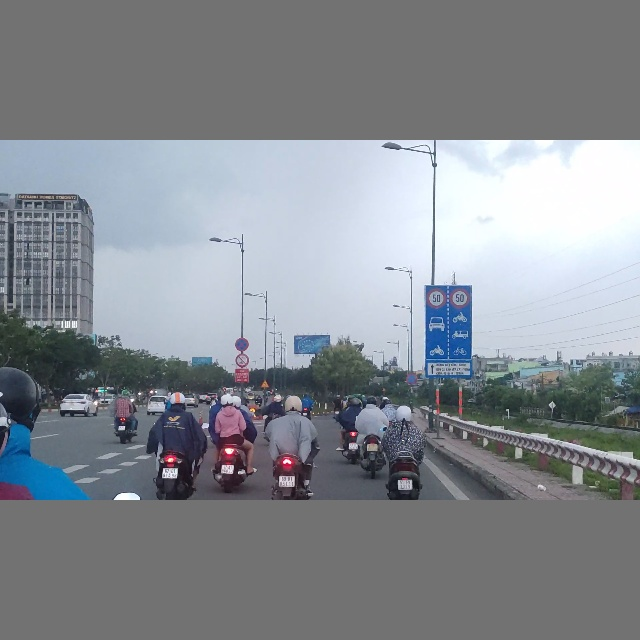P.111: (235, 353, 249, 367)
P.127*50: (426, 287, 447, 309), (449, 288, 470, 308)
P.130: (234, 337, 249, 351)
P.131a: (406, 372, 418, 385)
W.201a: (260, 380, 270, 388)
